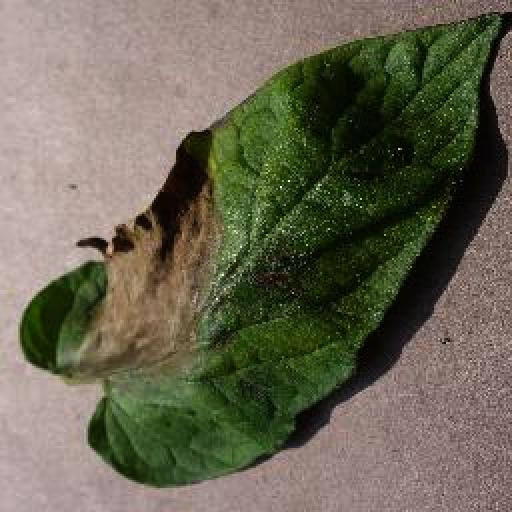disease_tomato: (20, 11, 506, 485)
